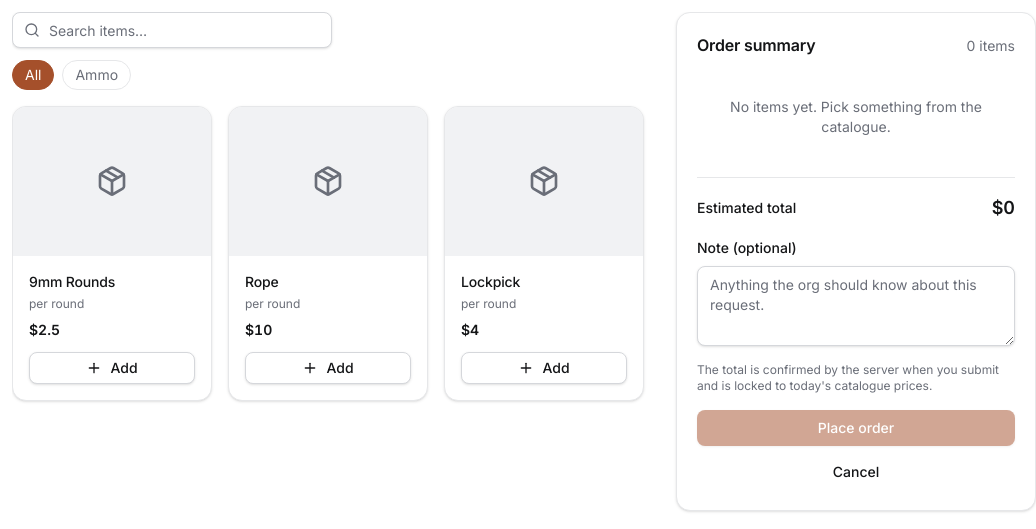
Scenario: OrderBuilder › filters the grid by search
The image size is (1036, 529).
In the field labelled "Search items": (172, 30) [12,12,332,48], type "rope"
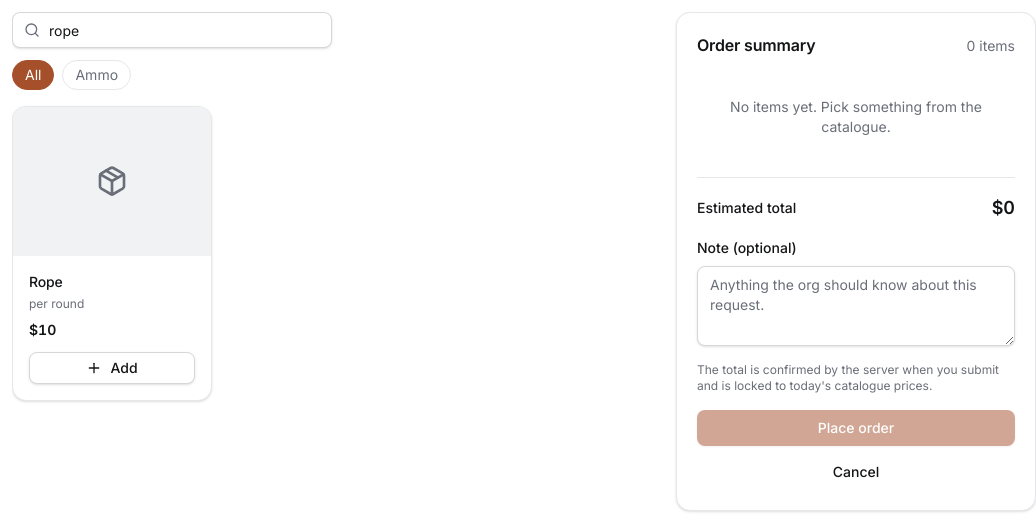
Expected: the heading "Rope" is shown, [29,272,63,290]
Now the heading "Lockpick" is gone
